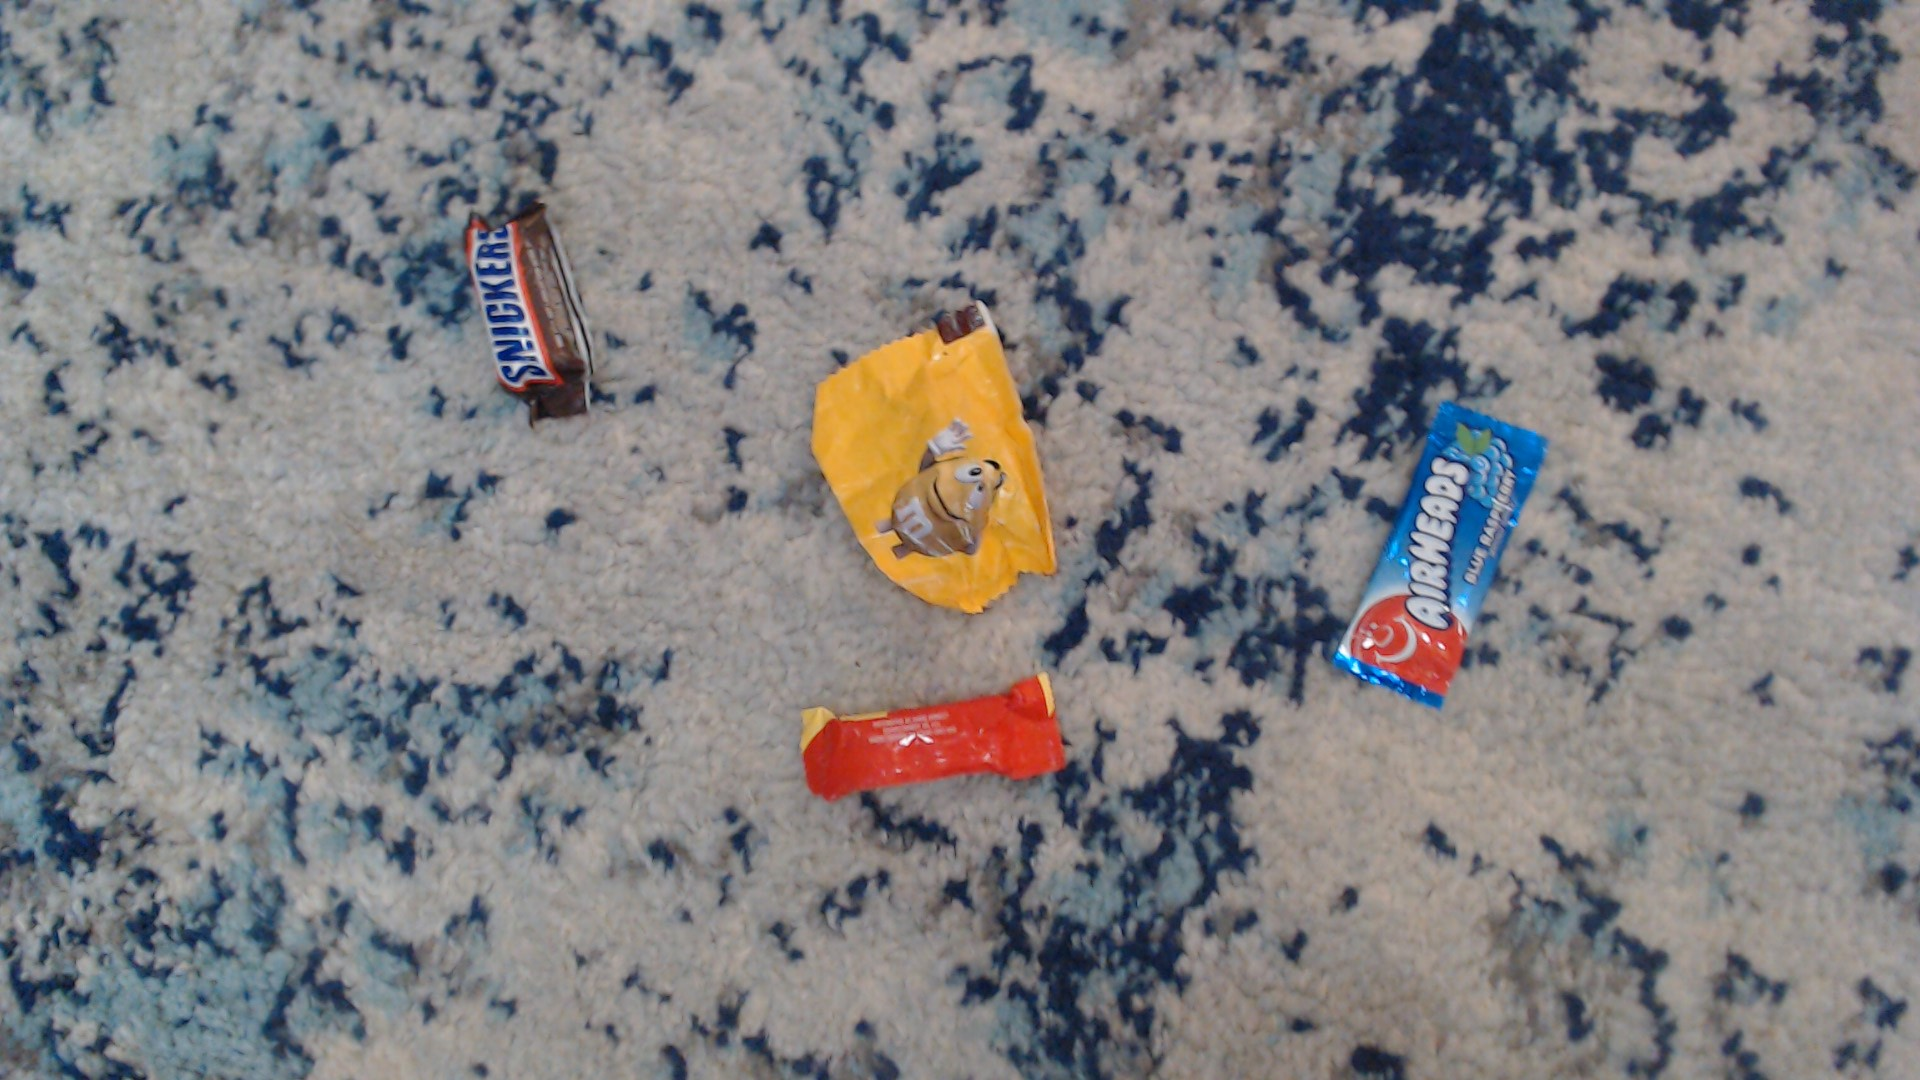MMs_regular: (767, 305, 1114, 645)
airheads: (1352, 348, 1553, 729)
snickers: (442, 185, 626, 434)
starbust: (766, 657, 1130, 825)
